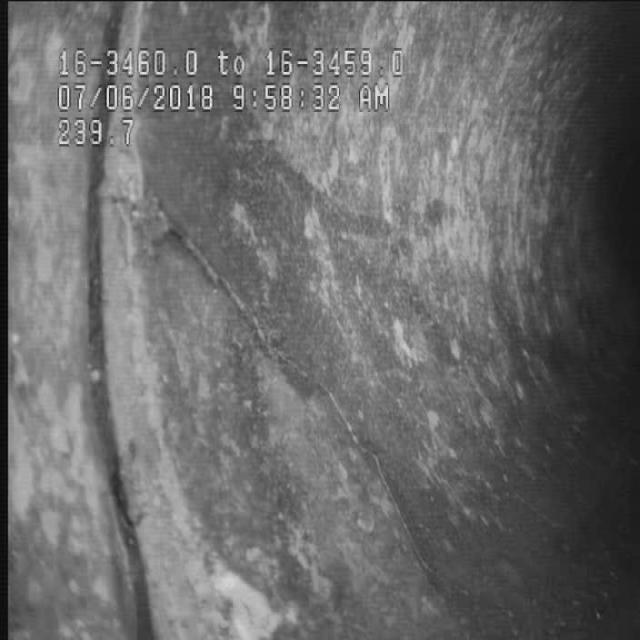Crack: (175, 193, 366, 470)
